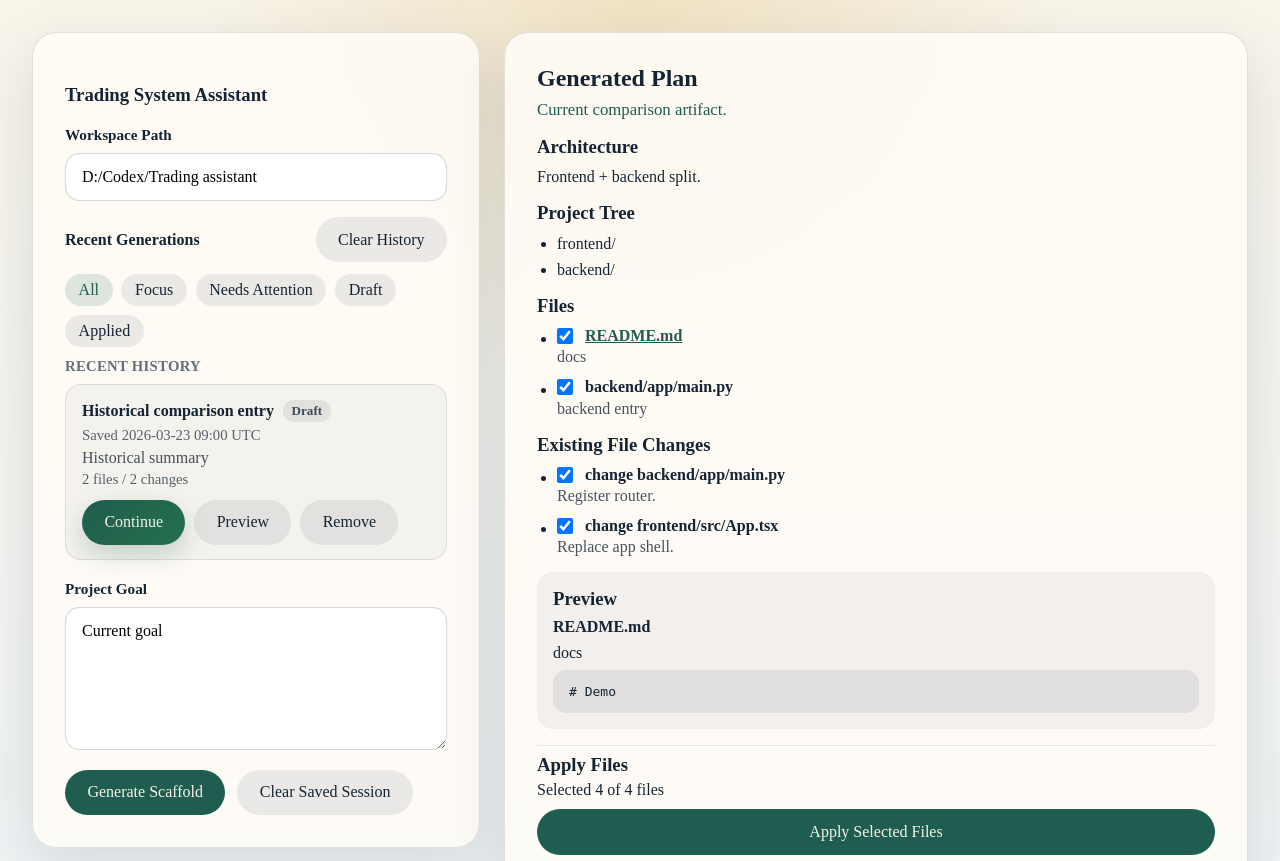
App › shows a comparison summary for non-active generation previews
Click the button with aria-label "preview historical comparison entry": (243, 522) 194,500 -> 292,545
(page scrolled)
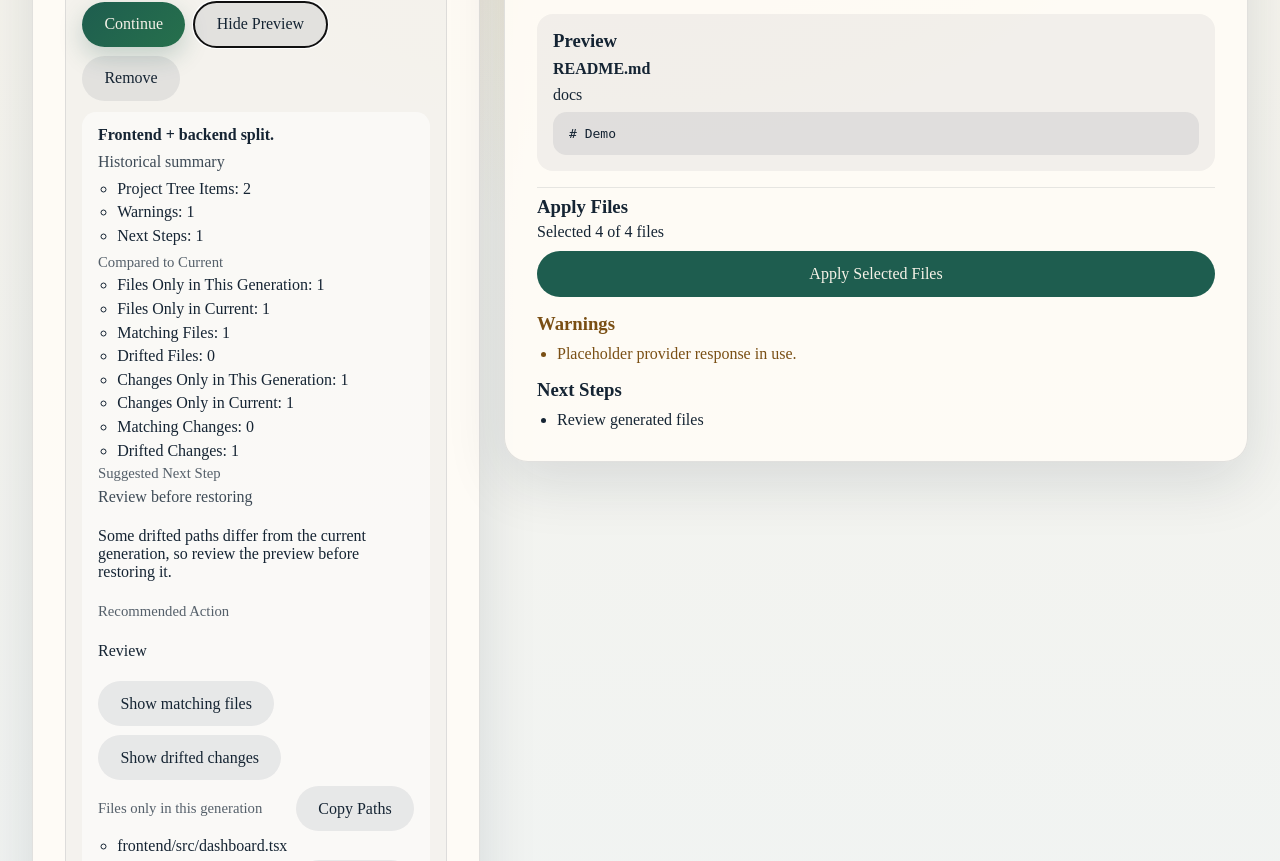
Expected: the text "Compared to Current" is shown, 98,254 -> 223,270
Expected: the list item "Files Only in This Generation: 1" is shown, 117,276 -> 324,294
Expected: the list item "Files Only in Current: 1" is shown, 117,300 -> 270,317
